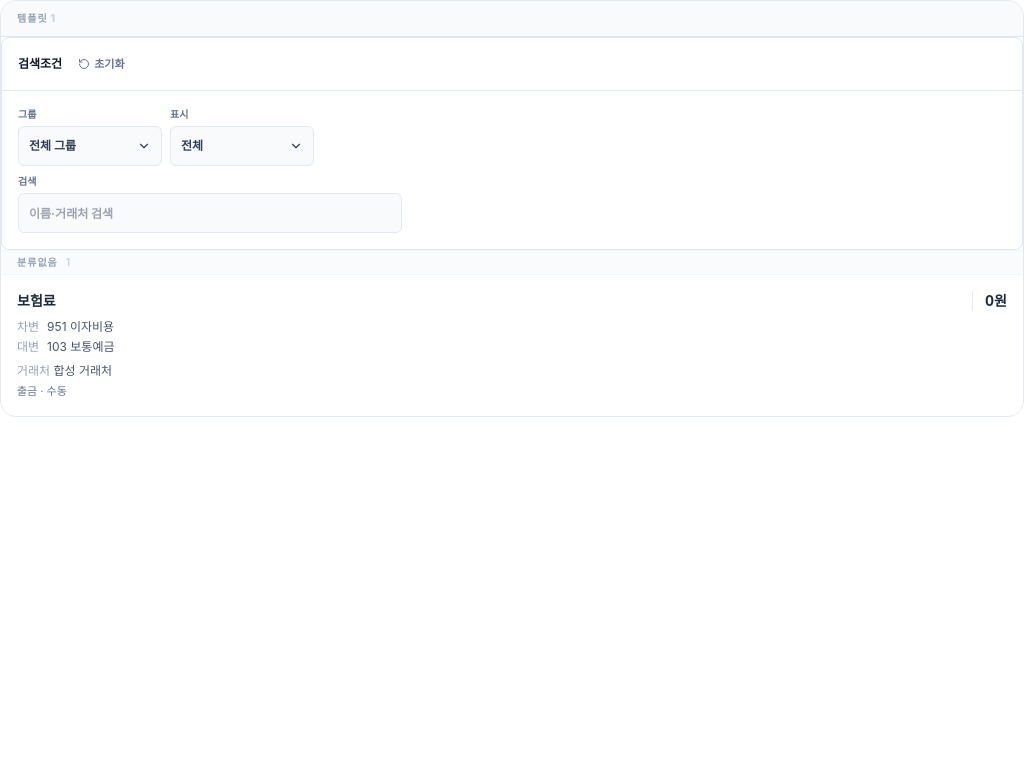
Test case: 목록과 상세에서 차대 계정을 같은 방식으로 표시하고 거래처는 별도로 둔다
Click the button with aria-label "보험료 상세보기": click(36, 300) [1,275,1023,416]
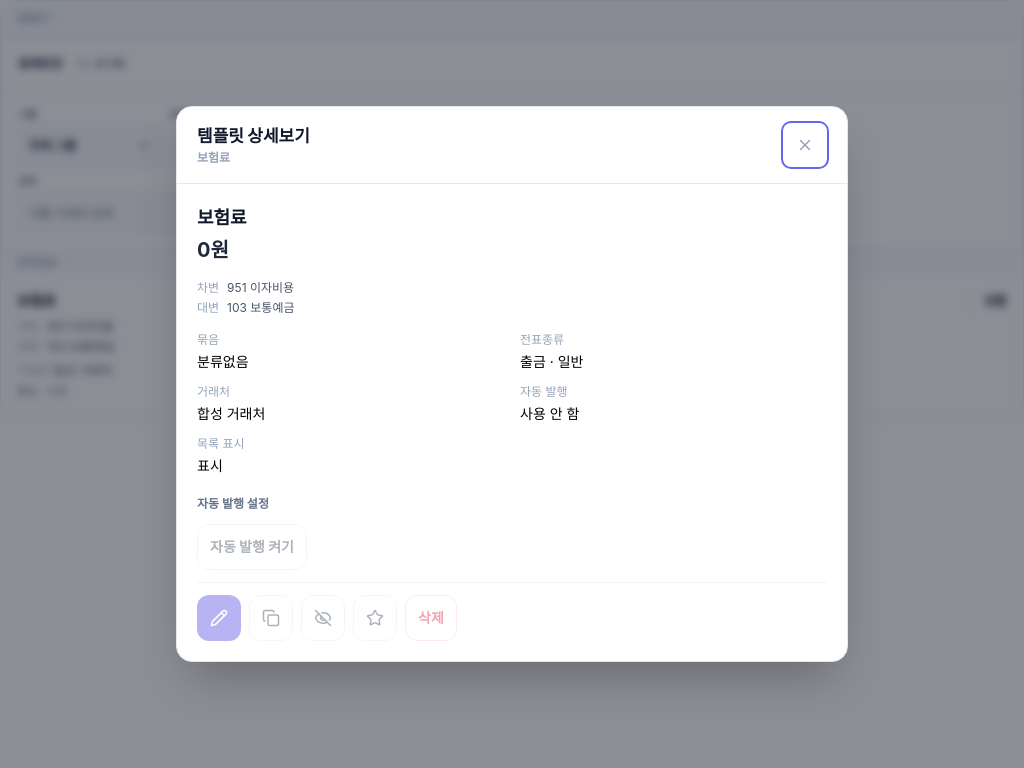
Expected: the text "103 보통예금" is shown 2 times, [47,339,114,355]; [227,300,294,316]
